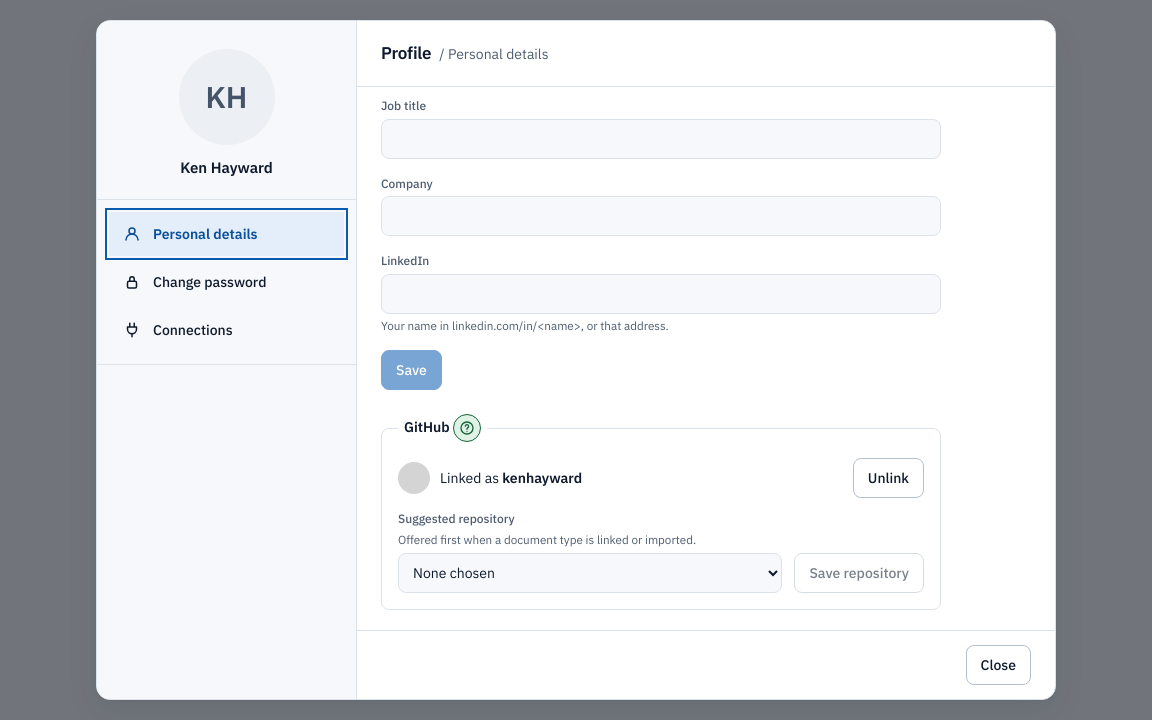
GitHub › chooses the suggested repository
(page scrolled)
expect the element "GitHub" shows "Offered first when a document type is linked or imported.": met, box [398,532,696,547]
expect the button "Save repository" is disabled: met, box [794,553,924,593]
Select "kenhayward/recipes (private)" in the dropdown labelled "Suggested repository" at (590, 573), box [398,553,782,593]
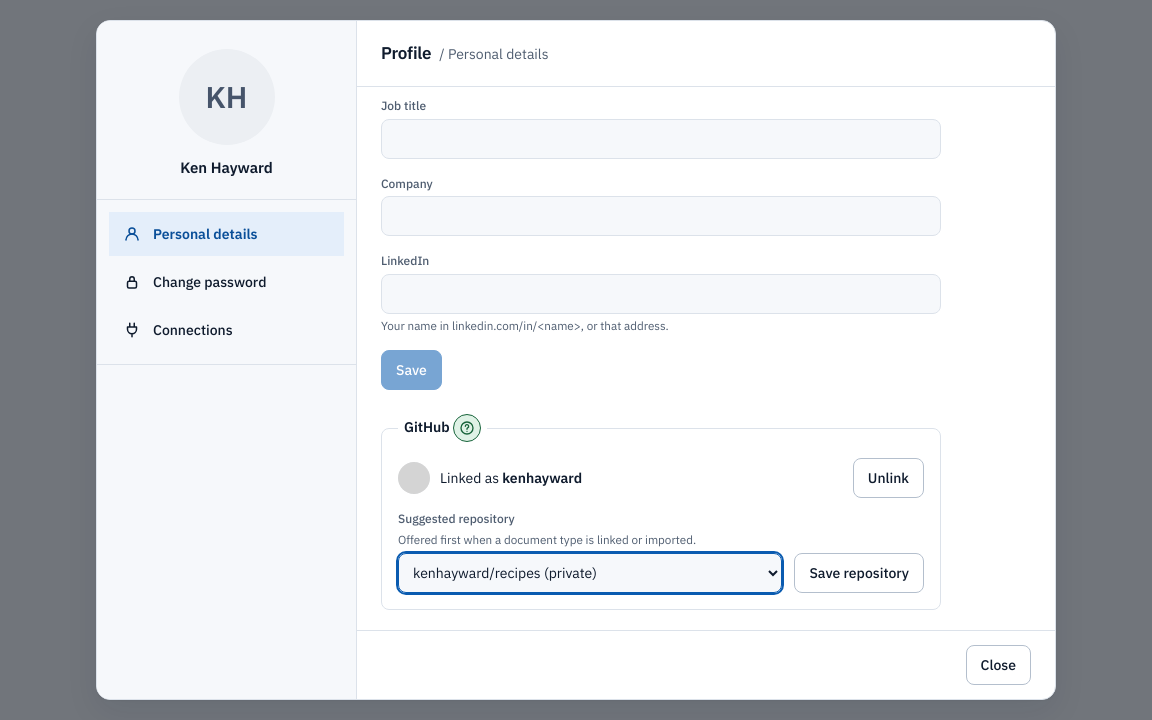
Click the button "Save repository" at (859, 573), box [794,553,924,593]
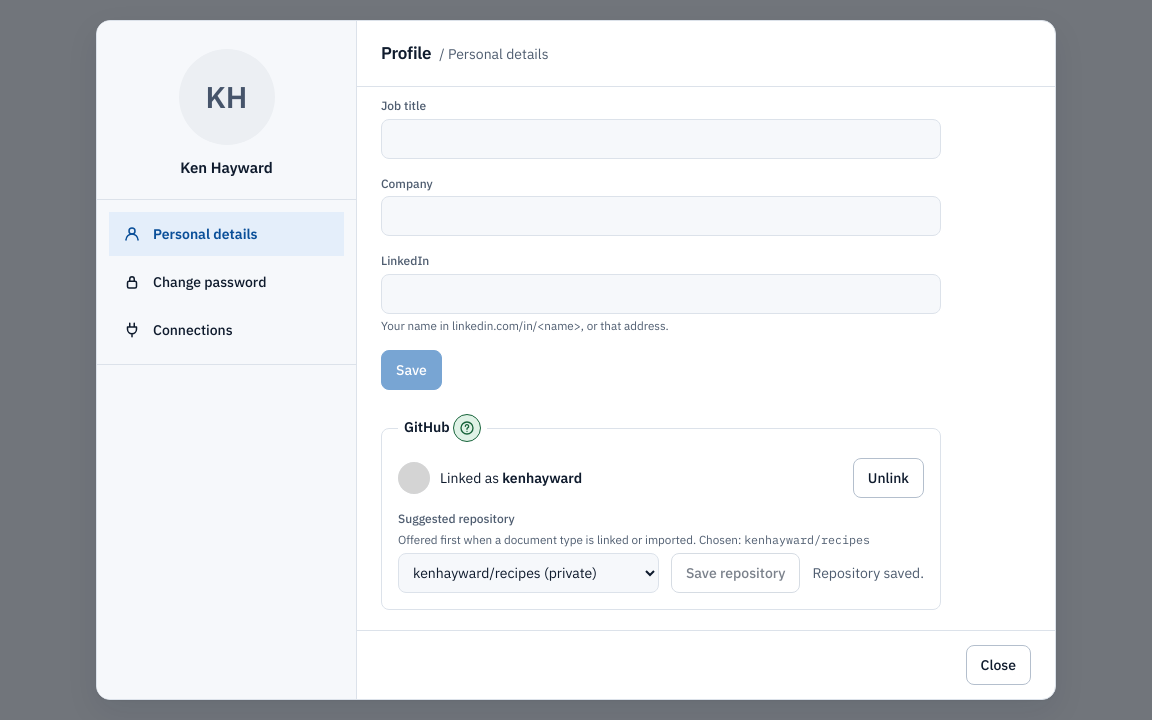
expect the message reads "Repository saved.": met, box [812,564,924,582]
